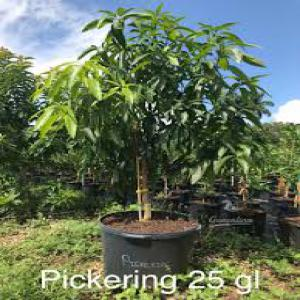Tree: (28, 5, 264, 282)
